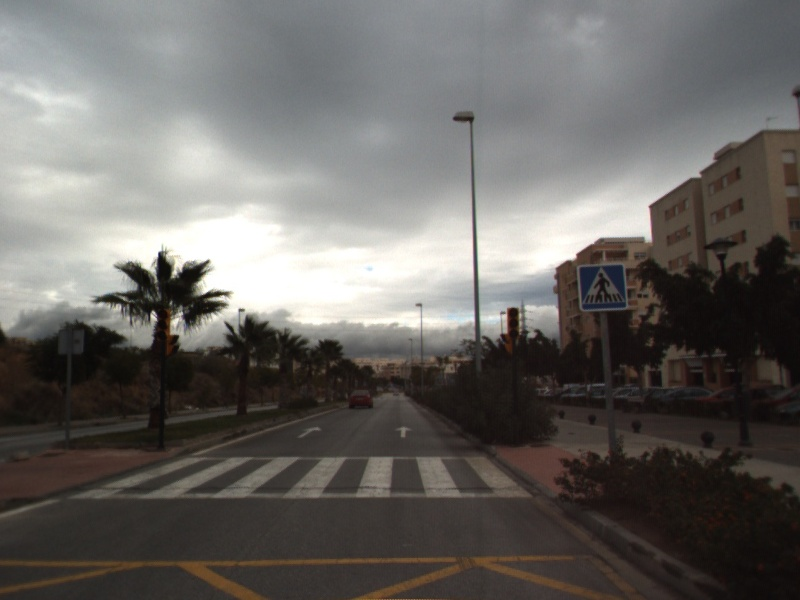STRAIGHT: (295, 424, 324, 440), (393, 424, 415, 439)
